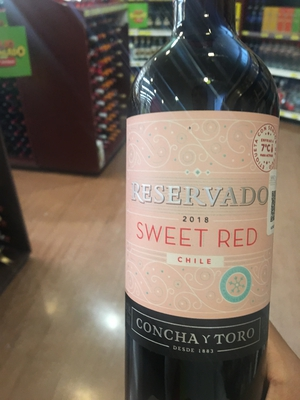reservado sweet red: (123, 2, 280, 392)
